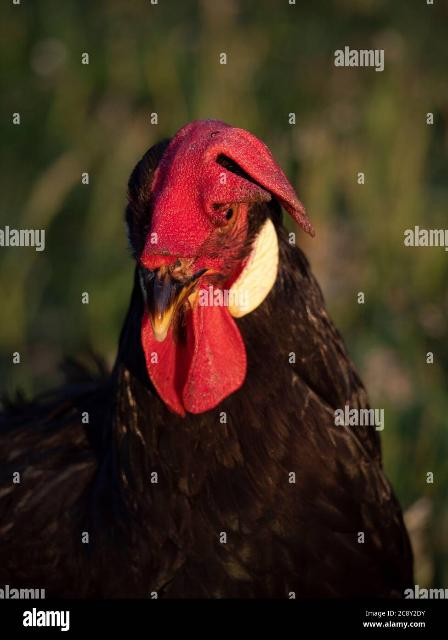Chicken: (0, 121, 421, 595)
